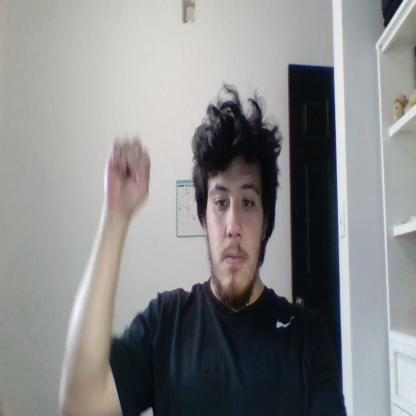S: (103, 133, 150, 215)
